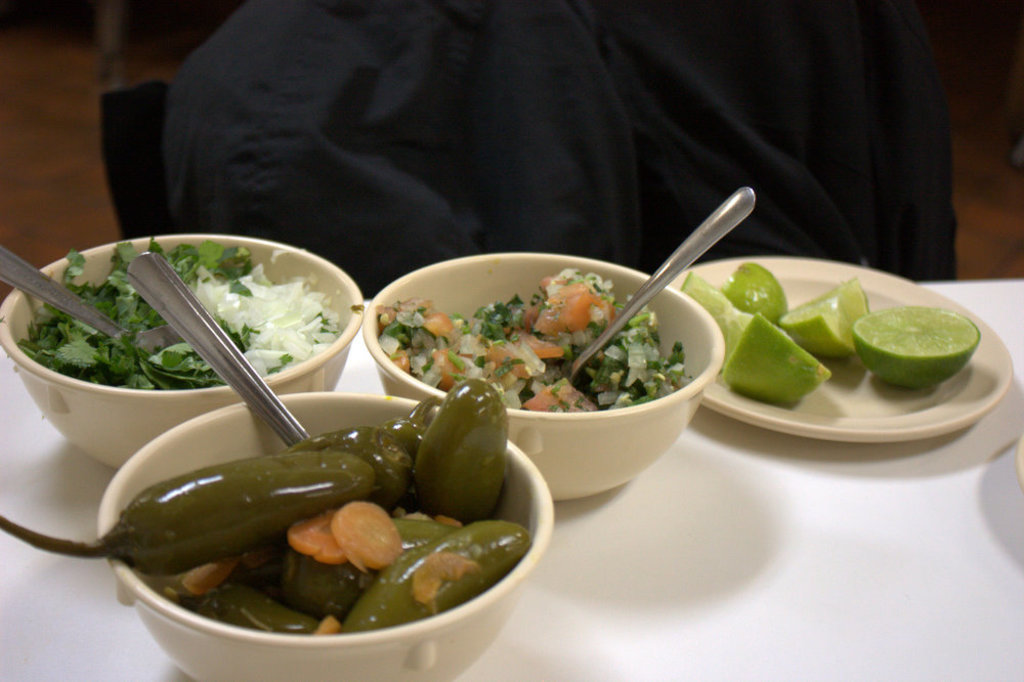salad: (378, 264, 696, 409)
